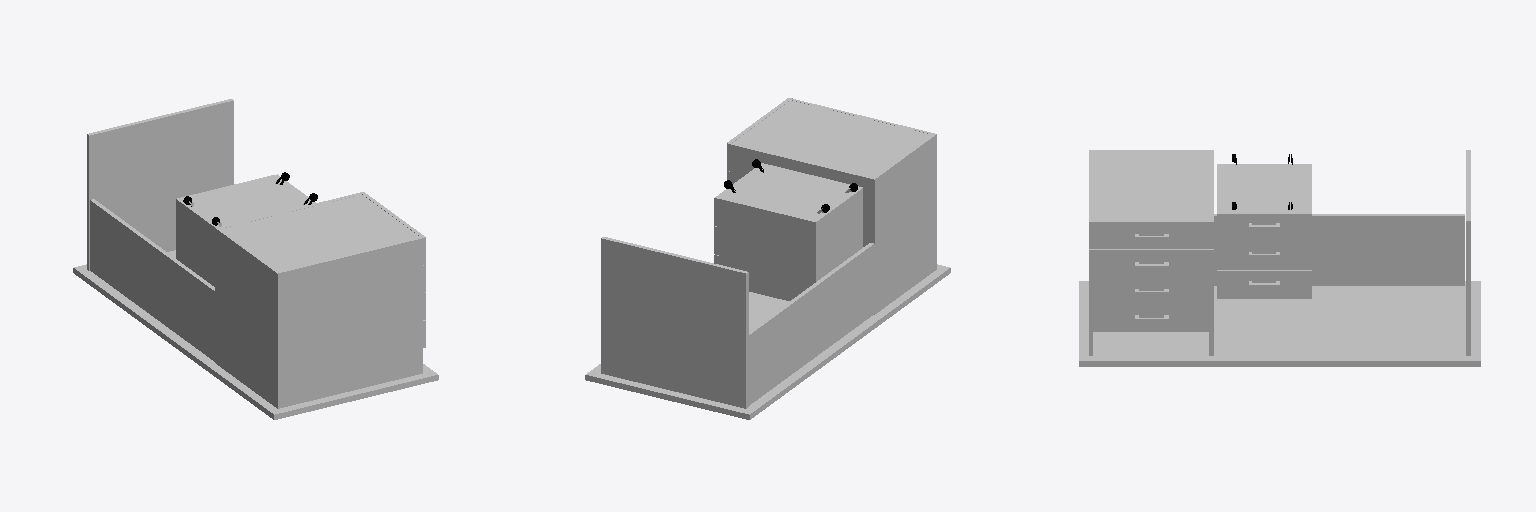
File: mesa.obj
3 renders of one model, left to right at view 1: azimuth 30°, elevation 25°; view 2: azimuth 150°, elevation 25°; view 3: azimuth 270°, elevation 25°, orthographic.
Parts seen in each view (by area): view 1: Cube.013_Cube.015, Cube.031_Cube.034; view 2: Cube.013_Cube.015, Cube.031_Cube.034; view 3: Cube.013_Cube.015, Cube.031_Cube.034.
Part boxes in pixels (x1,y1,x2,y2): Cube.013_Cube.015: (73, 99, 438, 419); Cube.031_Cube.034: (176, 172, 317, 286); Cube.013_Cube.015: (585, 98, 950, 419); Cube.031_Cube.034: (714, 159, 862, 300); Cube.013_Cube.015: (1079, 150, 1480, 366); Cube.031_Cube.034: (1217, 154, 1311, 298).
Bounding box in the file's own units: 2.06 × 1.69 × 4.36.